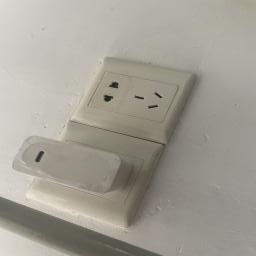outlet: (15, 120, 173, 232), (63, 60, 200, 131)
